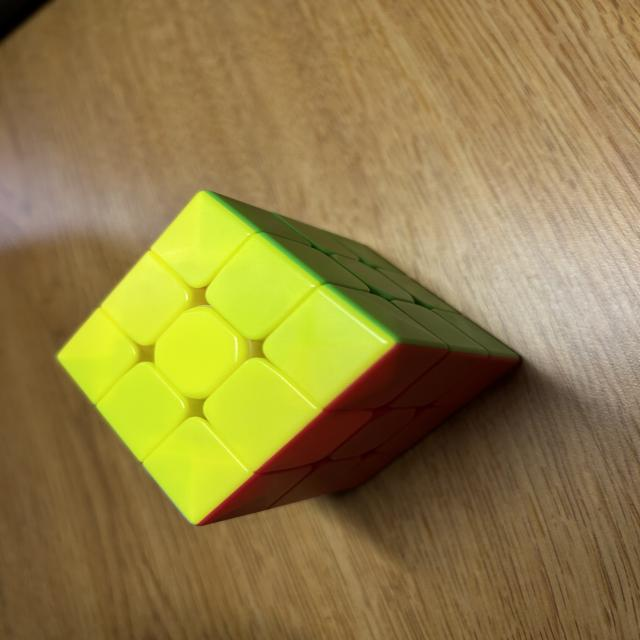Rubiks Cube: (53, 188, 523, 529)
